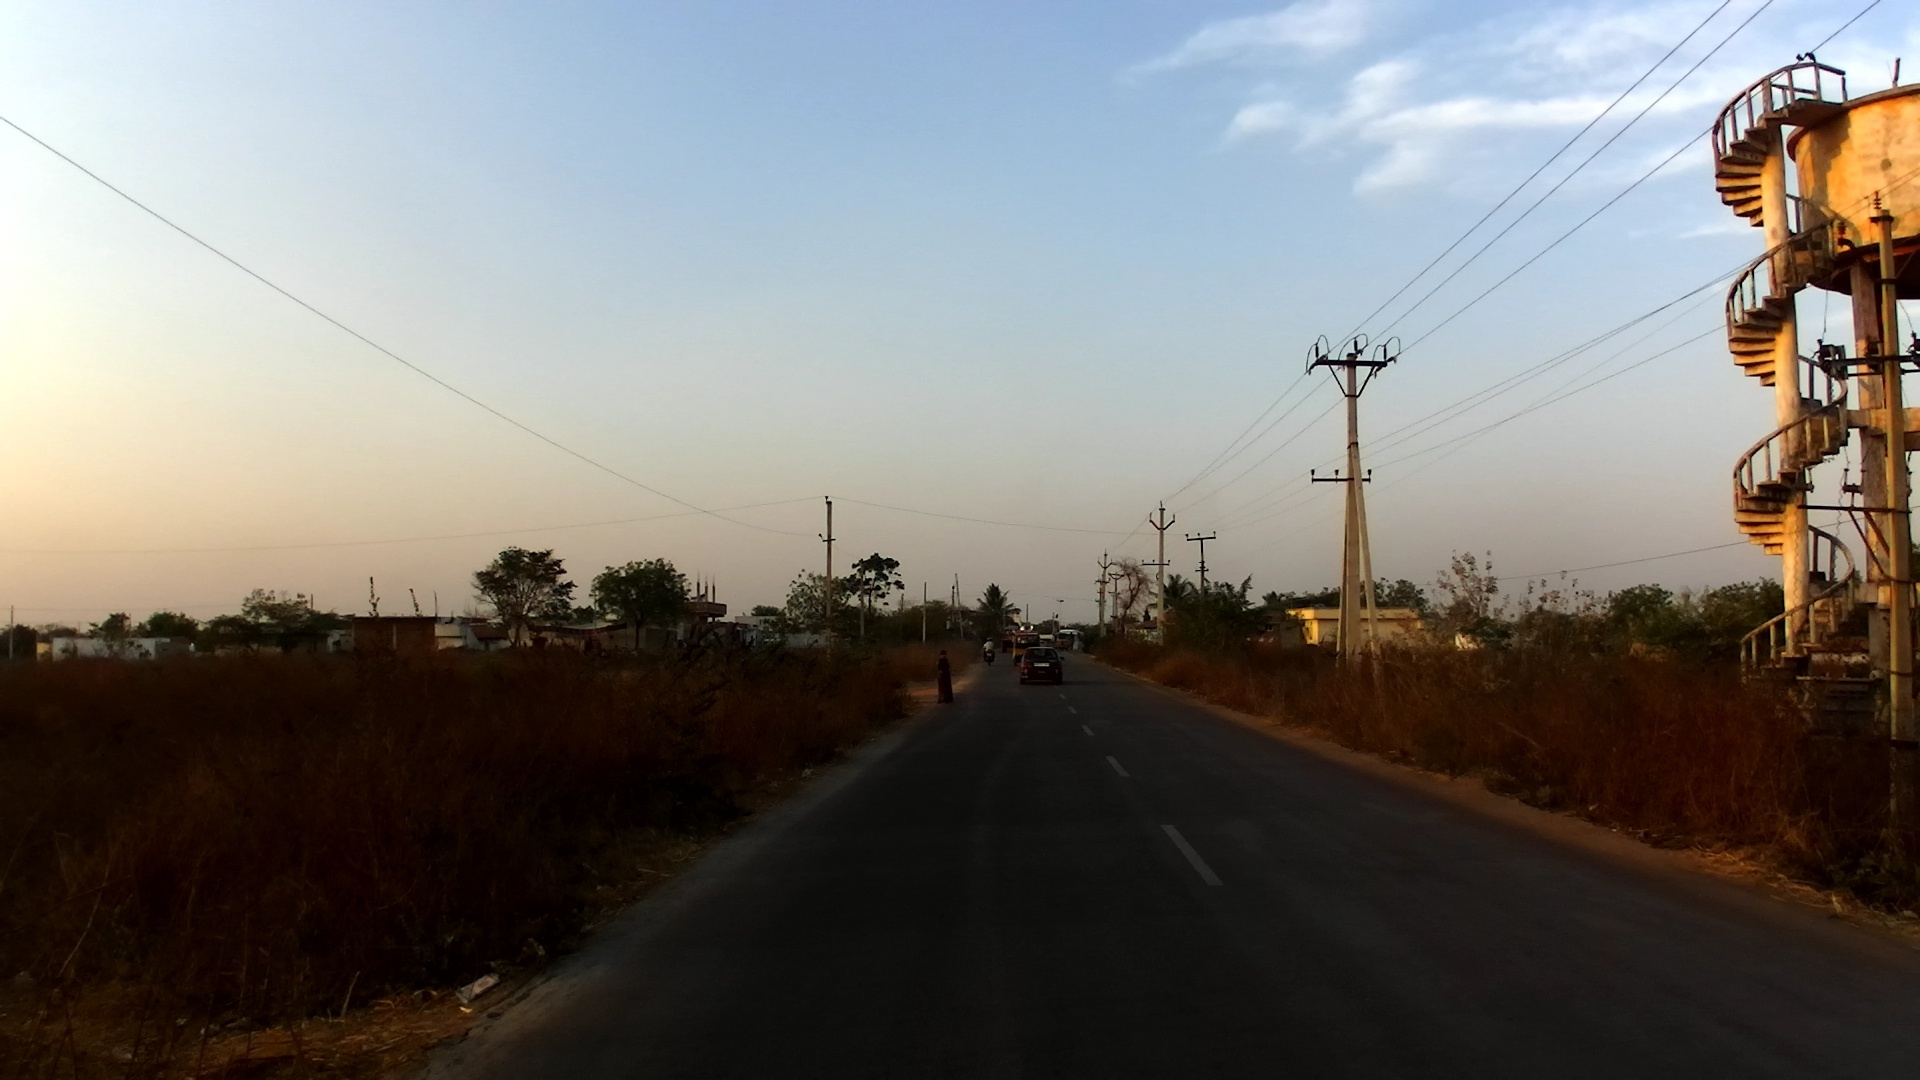autorickshaw: (1056, 630, 1073, 652)
car: (1020, 644, 1064, 684), (1011, 624, 1044, 666), (1038, 633, 1055, 649)
motorcycle: (983, 644, 997, 666)
person: (936, 647, 954, 704), (1068, 631, 1076, 651)
rider: (983, 637, 994, 663)
vehicle fallback: (999, 626, 1020, 652)
